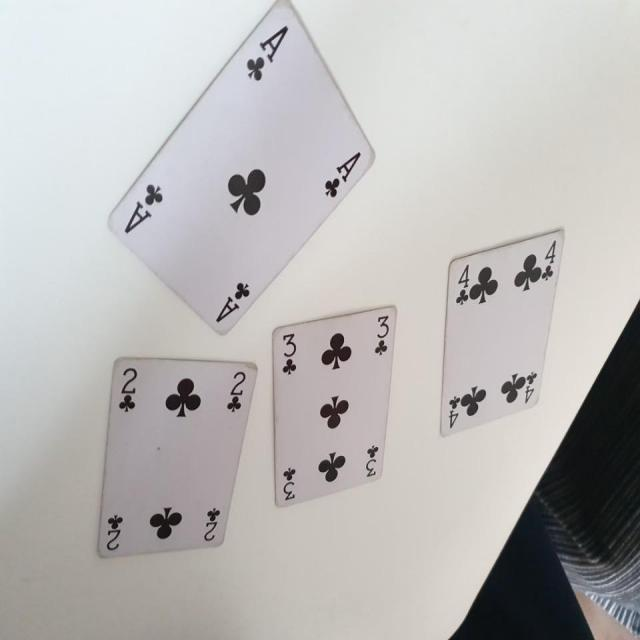2 Trefoils: (94, 356, 259, 558)
3 Trefoils: (269, 305, 398, 506)
4 Trefoils: (438, 227, 567, 439)
A Trefoils: (105, 1, 376, 334)
